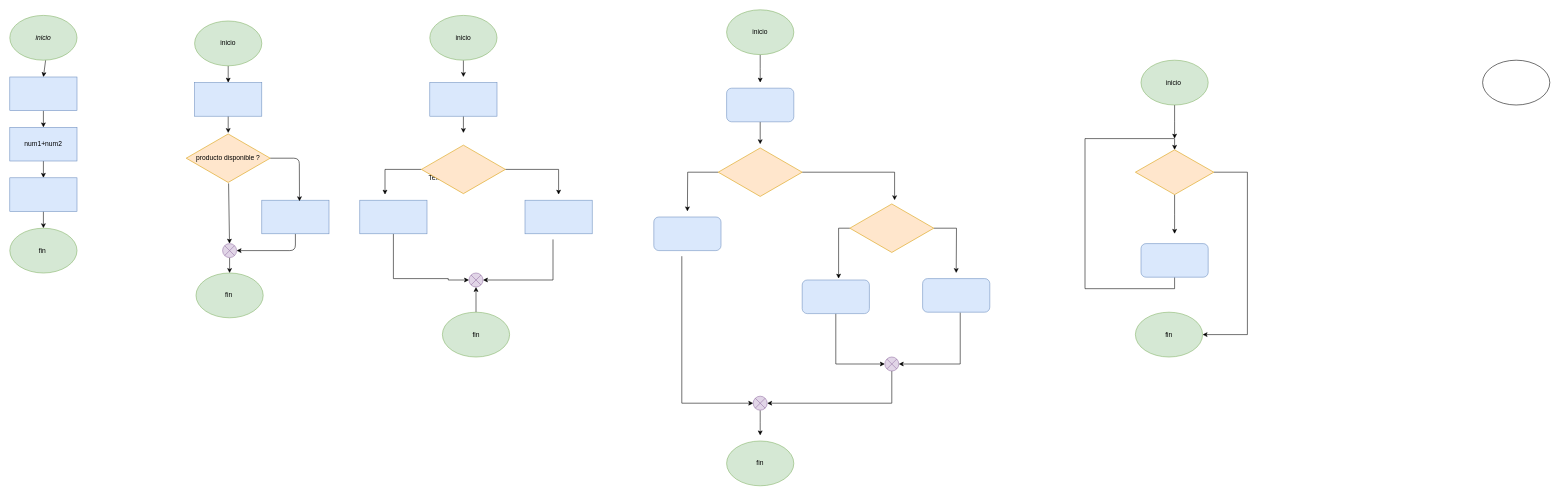
The diagram is 1560 pixels wide and 496 high, and some of its shapes have lost their labels. The shapes that lost their labels are listed below. From the top down, each one's centre as x and y in pixels, then its label:
At (x=43, y=93): "int num 1 int num 2".
At (x=228, y=99): "buscar producto".
At (x=43, y=194): "suma de num1+num2".
At (x=295, y=217): "agregar al carrito".
